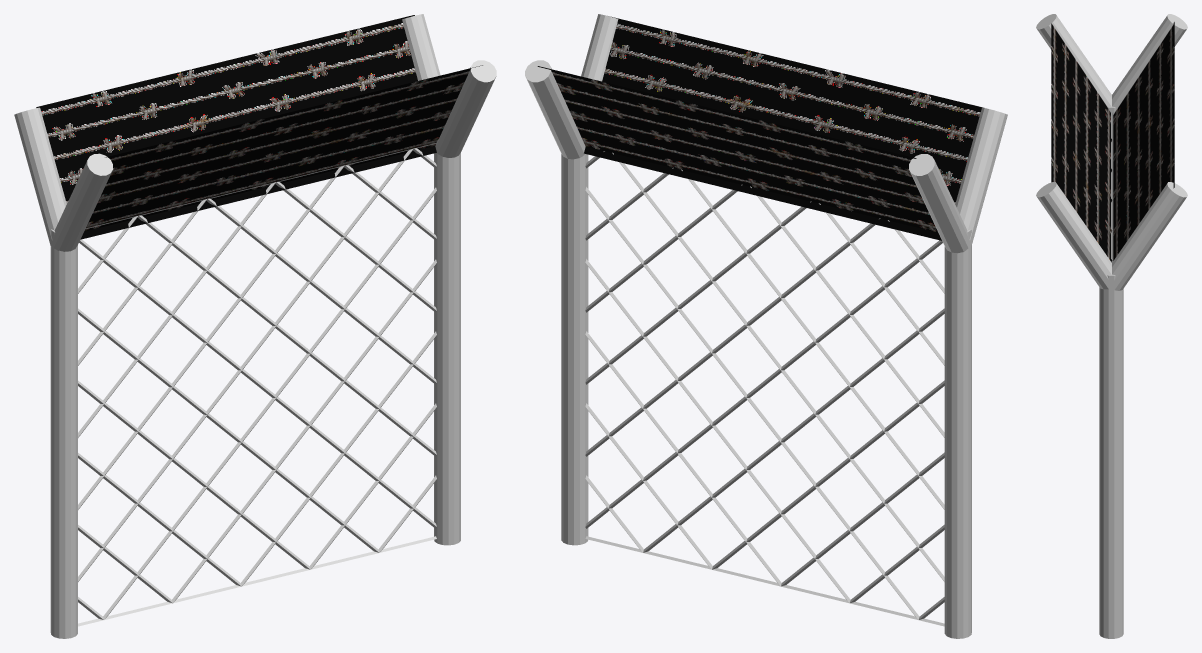
Rendered from BarbedWireFence.fbx.
The picture shows the model from 3 angles, left to right: view 1: azimuth 30°, elevation 25°; view 2: azimuth 150°, elevation 25°; view 3: azimuth 270°, elevation 25°; orthographic projection. The views are drawn at different scales.
Visible parts, largest first — view 1: Plane.001, Grid, Plane, Cylinder.001, Cylinder, Cylinder.005, Cylinder.004, Cylinder.002, Cylinder.003; view 2: Plane, Plane.001, Grid, Cylinder.001, Cylinder, Cylinder.004, Cylinder.005, Cylinder.003, Cylinder.002; view 3: Plane.001, Plane, Cylinder, Cylinder.003, Cylinder.002, Cylinder.005, Cylinder.004, Grid.
Boxes of the visible parts, x1,y1,x2,y2 form: Plane.001: (36,15,436,239); Grid: (78,143,436,626); Plane: (84,65,482,231); Cylinder.001: (50,229,77,638); Cylinder: (434,139,460,545); Cylinder.005: (14,107,66,245); Cylinder.004: (51,153,113,251); Cylinder.002: (435,60,496,157); Cylinder.003: (402,14,440,80); Plane: (584,16,983,240); Plane.001: (537,66,937,232); Grid: (585,151,944,626); Cylinder.001: (944,229,971,638); Cylinder: (561,146,588,545); Cylinder.004: (955,107,1007,245); Cylinder.005: (909,154,969,253); Cylinder.003: (525,60,584,159); Cylinder.002: (581,14,618,81); Plane.001: (1113,22,1174,260); Plane: (1051,23,1112,262); Cylinder: (1099,274,1123,638); Cylinder.003: (1110,182,1187,290); Cylinder.002: (1036,182,1111,289); Cylinder.005: (1112,14,1187,111); Cylinder.004: (1036,14,1111,107); Grid: (1111,112,1113,262).
Size of the model in its own units: 215 by 253 by 77.47.
1 material, 1 textured.
